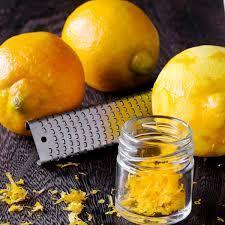lemon: (0, 30, 86, 135), (61, 0, 160, 91), (151, 44, 225, 156)
